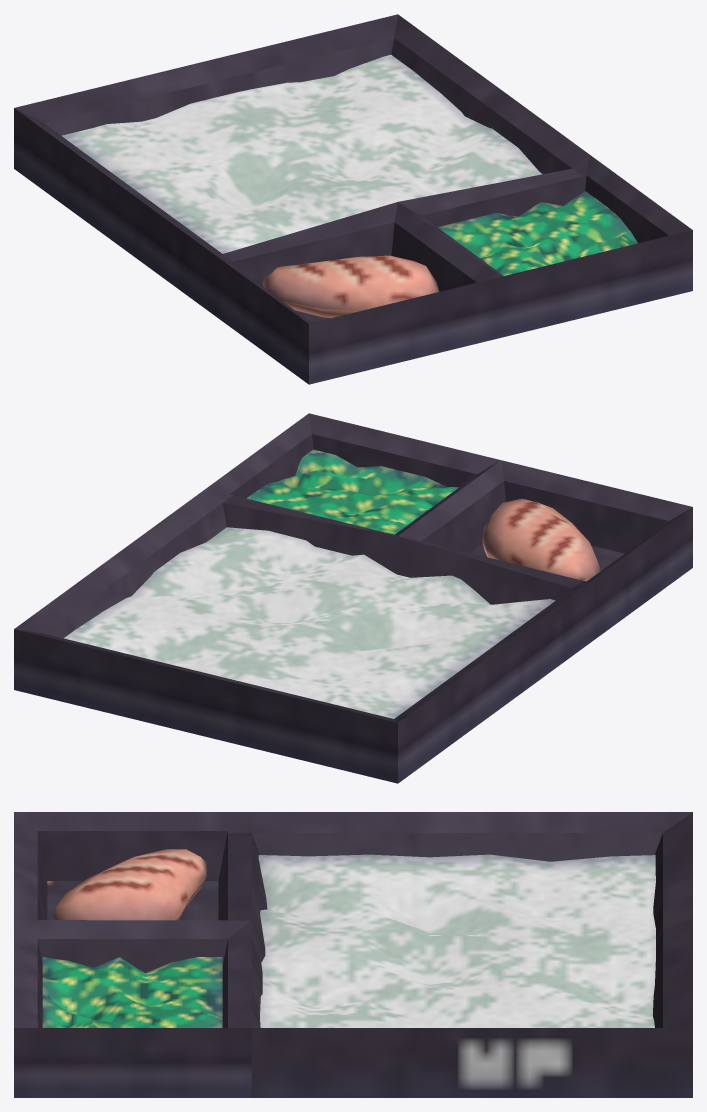
File: MealPrep_Cooked.fbx
3 views of the same model, one above another, from view 1: azimuth 30°, elevation 25°; view 2: azimuth 150°, elevation 25°; view 3: azimuth 270°, elevation 25° (orthographic). The views are drawn at different scales.
Parts seen in each view (by area): view 1: MealPrep_Box_Cooked; view 2: MealPrep_Box_Cooked; view 3: MealPrep_Box_Cooked.
Boxes of the visible parts, x1=… form: MealPrep_Box_Cooked: x1=14, y1=14, x2=692, y2=384; MealPrep_Box_Cooked: x1=14, y1=413, x2=692, y2=783; MealPrep_Box_Cooked: x1=14, y1=812, x2=692, y2=1097.
Size of the model in its own units: 93.79 by 14.19 by 125.
